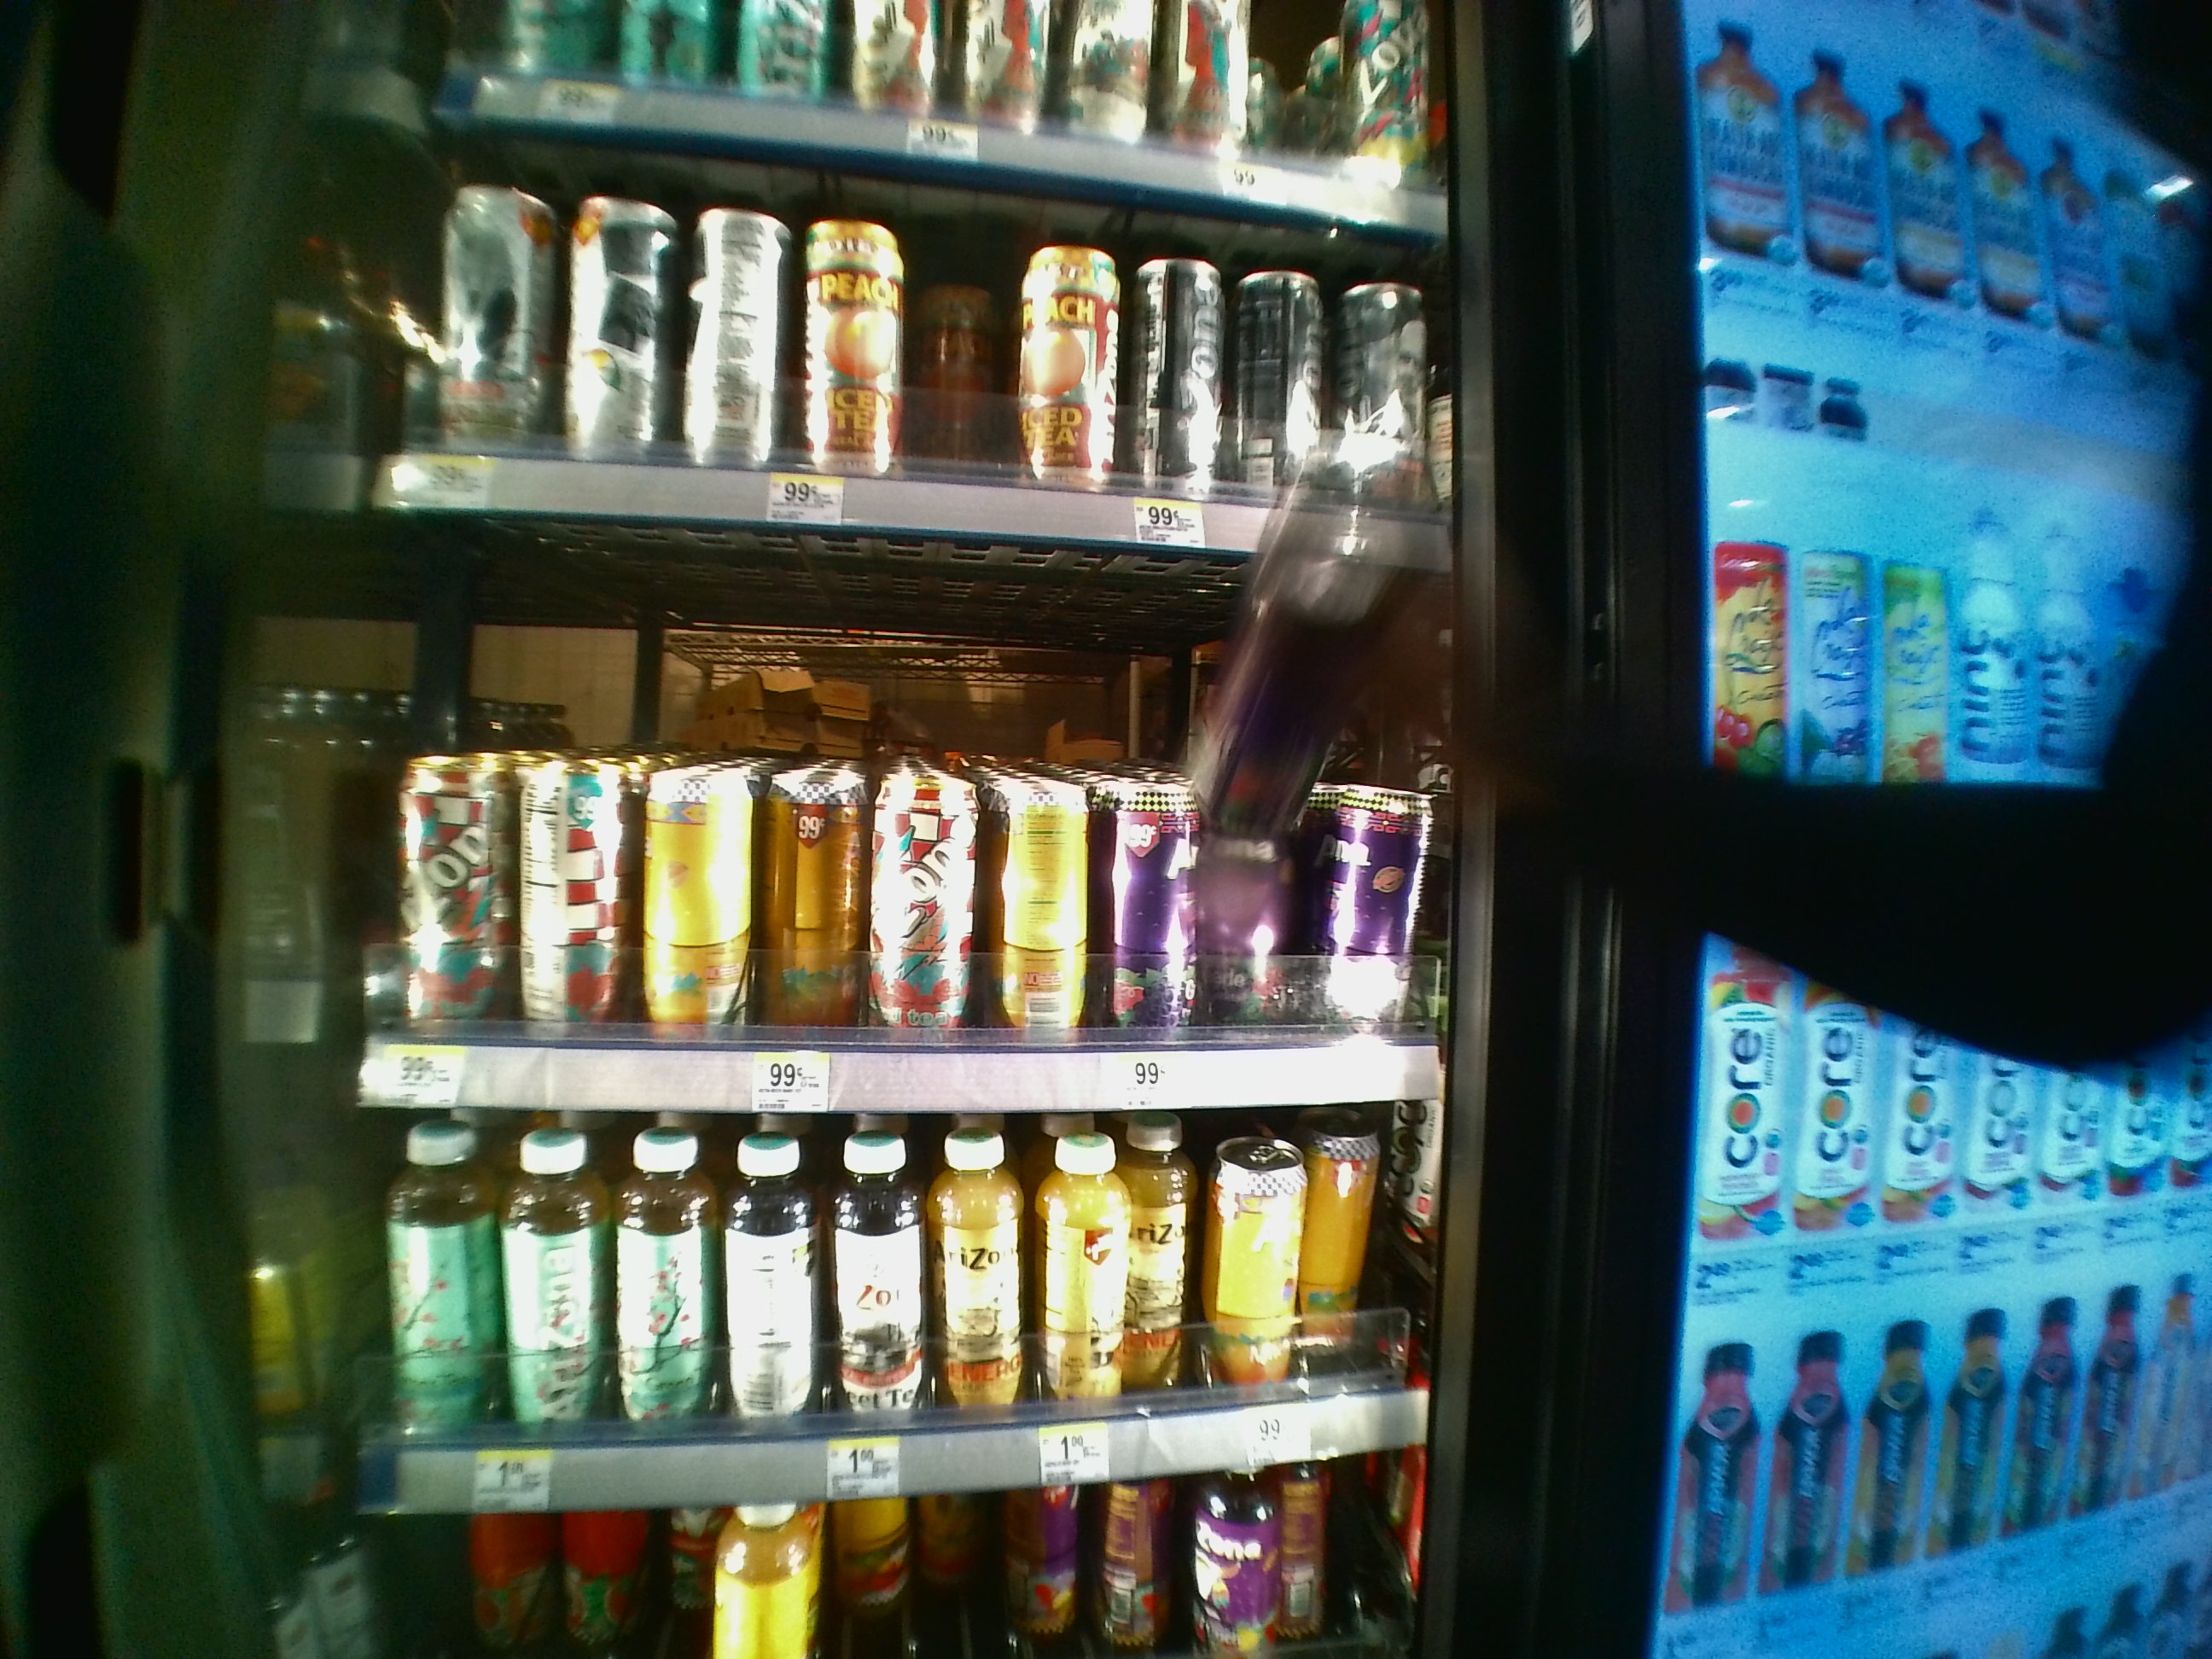shelf: (355, 516, 1439, 1103), (347, 1114, 1440, 1504)
